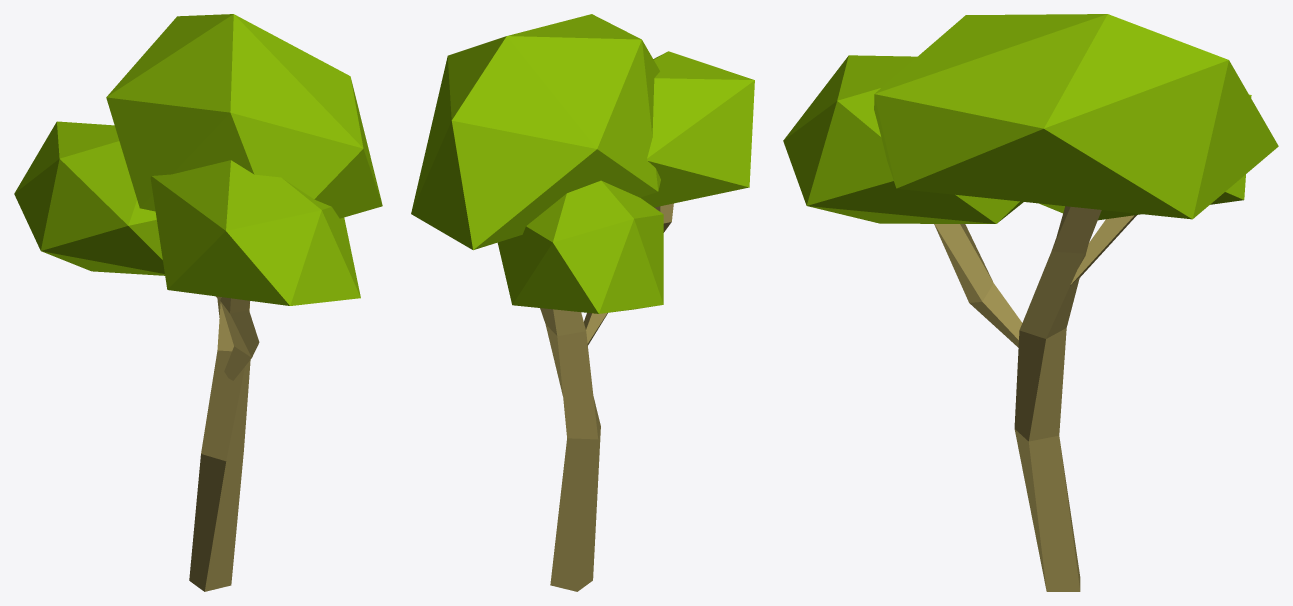
File: Tree_Summer_1.fbx
3 views of the same model, side by side, from view 1: azimuth 30°, elevation 25°; view 2: azimuth 150°, elevation 25°; view 3: azimuth 270°, elevation 25° (orthographic). The views are drawn at different scales.
Parts seen in each view (by area): view 1: Leaves.002, Leaves, Leaves.001, Trunk, Trunk.002; view 2: Leaves.002, Leaves.001, Leaves, Trunk, Trunk.002; view 3: Leaves.002, Leaves, Trunk, Trunk.002, Trunk.001, Leaves.001.
Part boxes in pixels (x1,y1,x2,y2): Leaves.002: [106, 14, 382, 218]; Leaves: [150, 160, 360, 305]; Leaves.001: [14, 121, 164, 275]; Trunk: [189, 297, 250, 591]; Trunk.002: [220, 297, 259, 380]; Leaves.002: [411, 14, 660, 250]; Leaves.001: [497, 180, 663, 313]; Leaves: [640, 51, 754, 207]; Trunk: [540, 308, 600, 591]; Trunk.002: [584, 203, 673, 345]; Leaves.002: [874, 14, 1278, 219]; Leaves: [783, 55, 1023, 223]; Trunk: [1014, 206, 1101, 591]; Trunk.002: [934, 224, 1022, 347]; Trunk.001: [1070, 215, 1136, 285]; Leaves.001: [1039, 94, 1251, 220].
Size of the model in its own units: 183 by 364 by 275.
